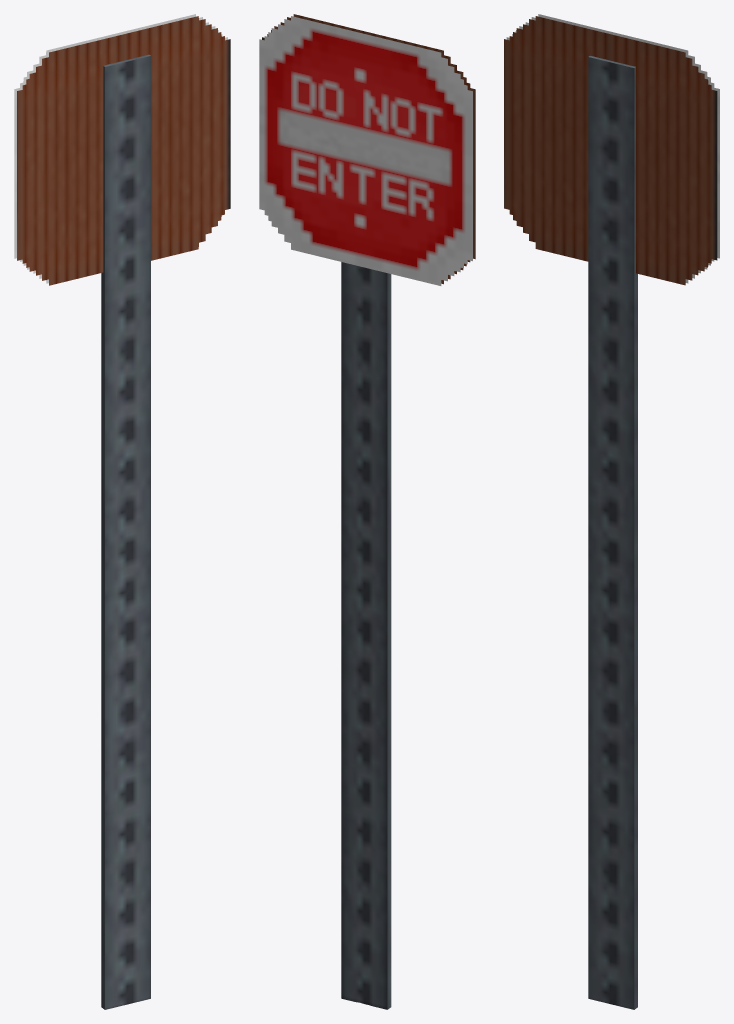
Rendered from BLOCKYGON_SIGN DO NOT ENTER.fbx.
3 views of the same model, side by side, from view 1: azimuth 30°, elevation 25°; view 2: azimuth 150°, elevation 25°; view 3: azimuth 330°, elevation 25° (orthographic).
Visible parts, largest first — view 1: BLOCKYGON_SIGN_DO_NOT_ENTER; view 2: BLOCKYGON_SIGN_DO_NOT_ENTER; view 3: BLOCKYGON_SIGN_DO_NOT_ENTER.
Part boxes in pixels (box(x1,y1,x2,y2)): BLOCKYGON_SIGN_DO_NOT_ENTER: box(14, 14, 230, 1009); BLOCKYGON_SIGN_DO_NOT_ENTER: box(259, 14, 475, 1009); BLOCKYGON_SIGN_DO_NOT_ENTER: box(504, 14, 719, 1009).
Size of the model in its own units: 48.04 by 208 by 1.75.
